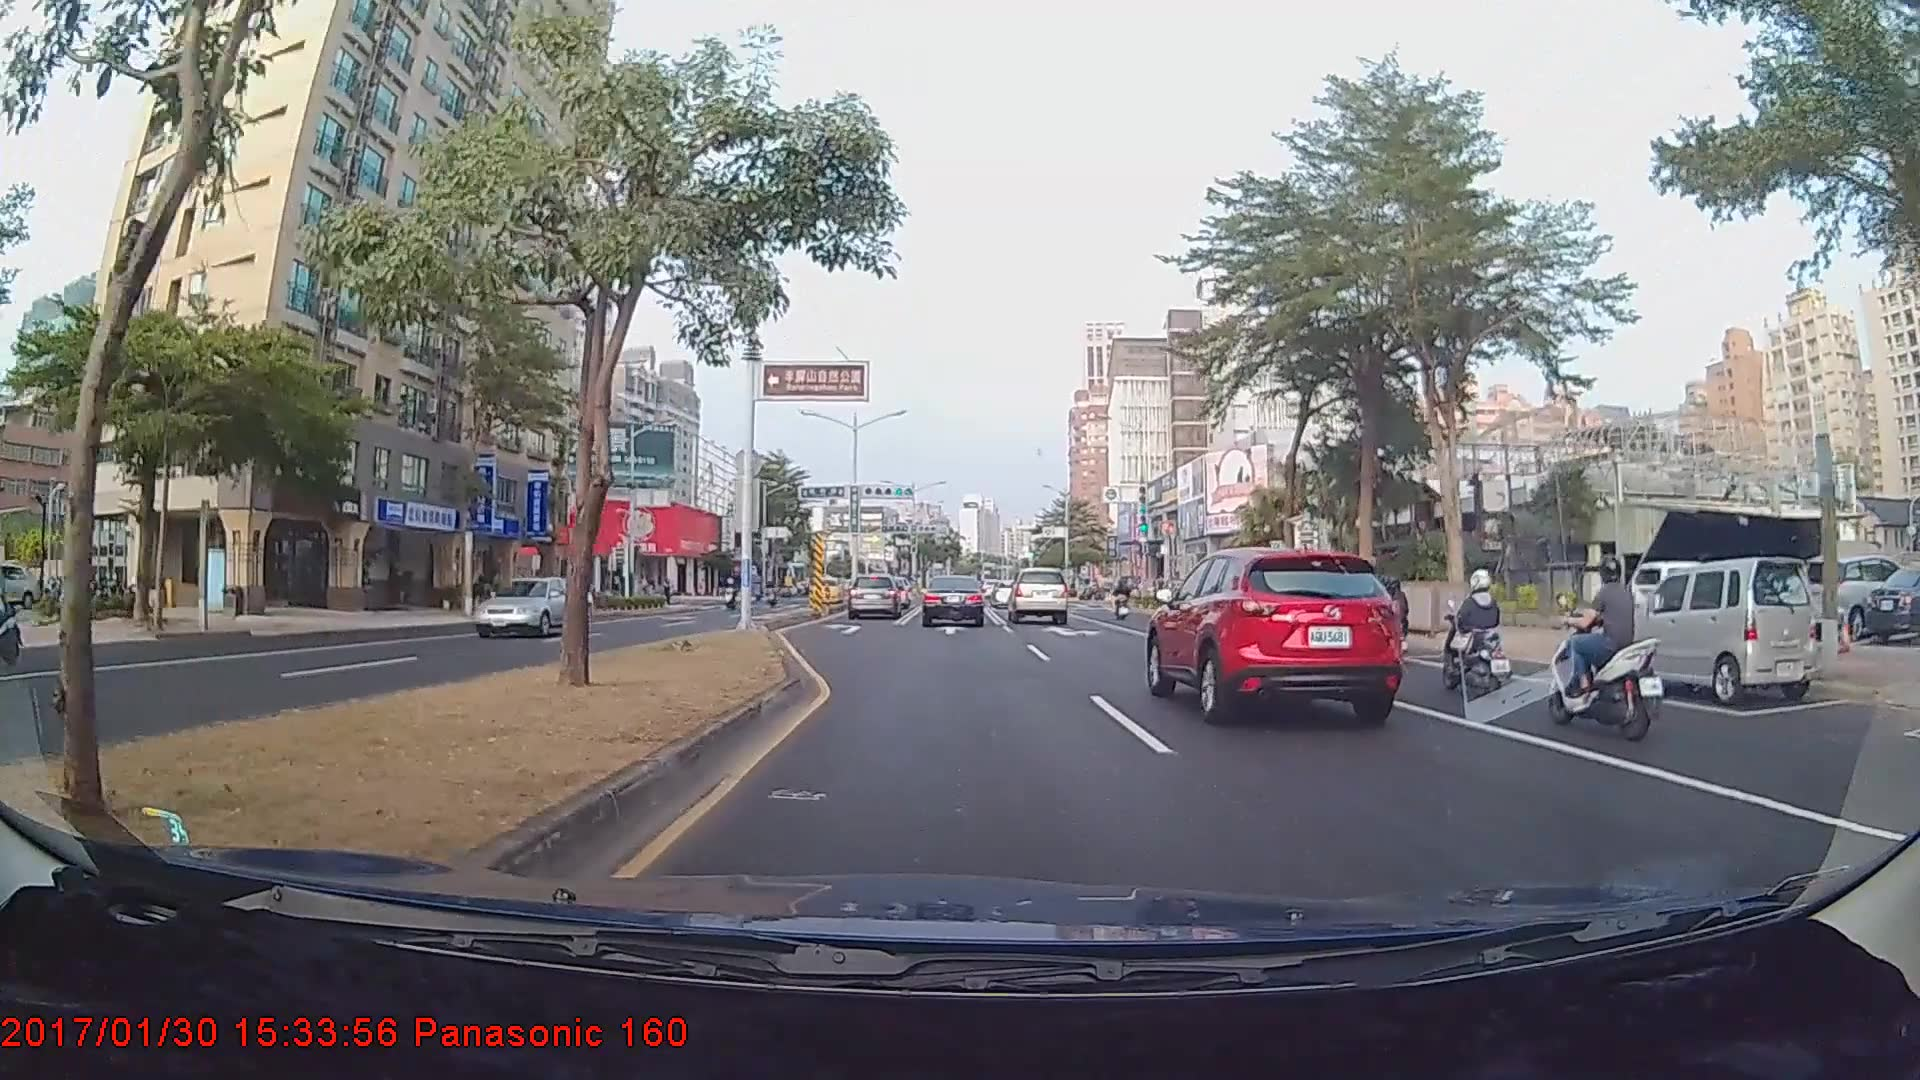rider: (1537, 553, 1666, 741), (1431, 572, 1528, 714), (1365, 576, 1413, 679), (1, 561, 28, 668), (1111, 584, 1136, 627)
vehicle: (1146, 542, 1405, 721), (1608, 556, 1817, 705), (472, 574, 579, 637), (1007, 566, 1069, 625), (922, 575, 985, 628), (844, 571, 909, 621)
